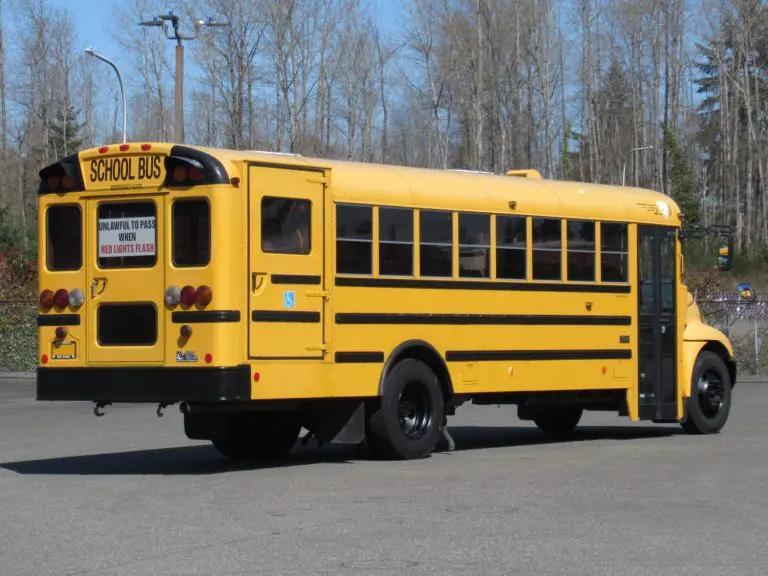Bus: (34, 142, 740, 461)
